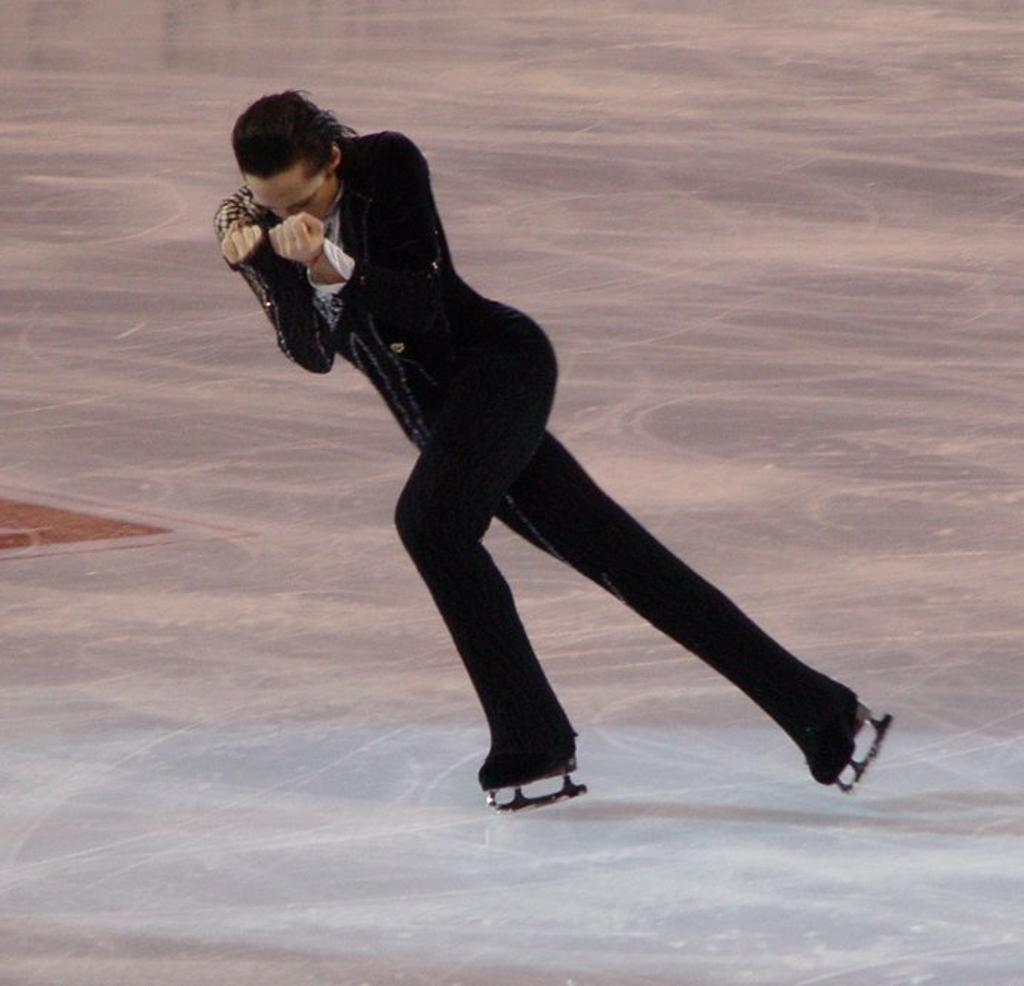face: (244, 168, 336, 234)
